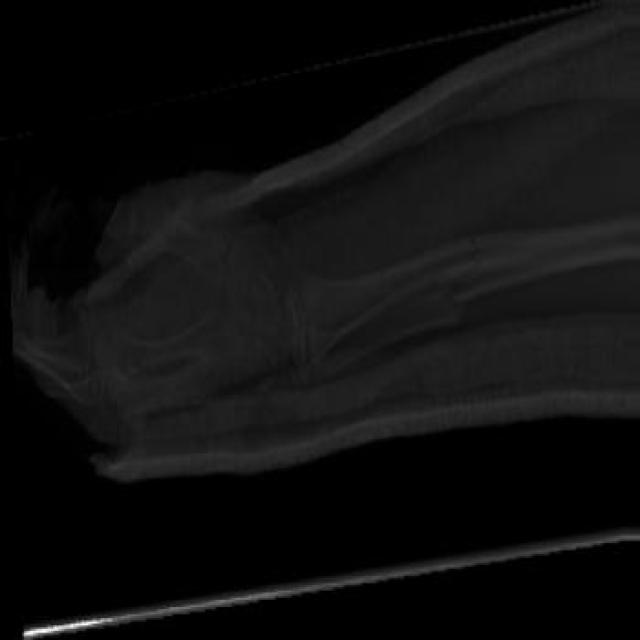Fracture: (456, 226, 488, 282)
